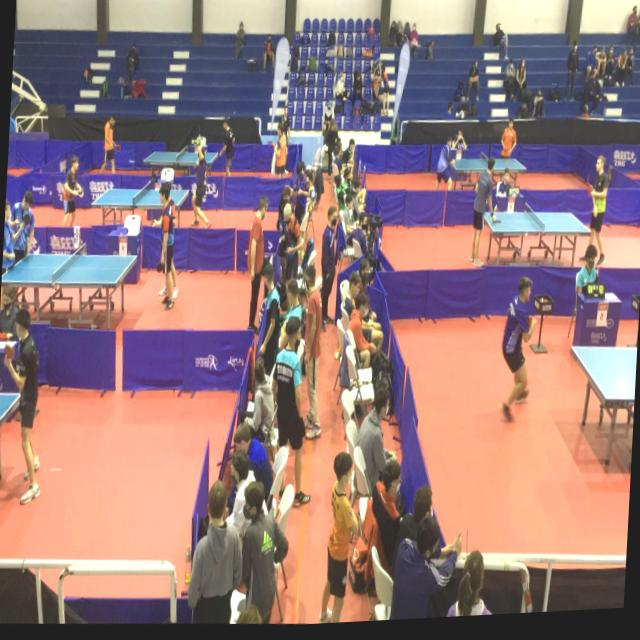TT Net: (51, 240, 87, 288), (524, 200, 546, 236), (132, 178, 153, 207), (480, 151, 493, 172), (175, 144, 188, 164)
TT Racket: (3, 340, 17, 363), (155, 257, 166, 275), (22, 210, 32, 227), (23, 245, 29, 258), (494, 218, 502, 223), (116, 143, 120, 152)
TT Table: (2, 254, 137, 283), (571, 347, 637, 399), (481, 211, 593, 232), (92, 188, 189, 205), (448, 158, 527, 169), (143, 152, 219, 163), (0, 393, 20, 420)
